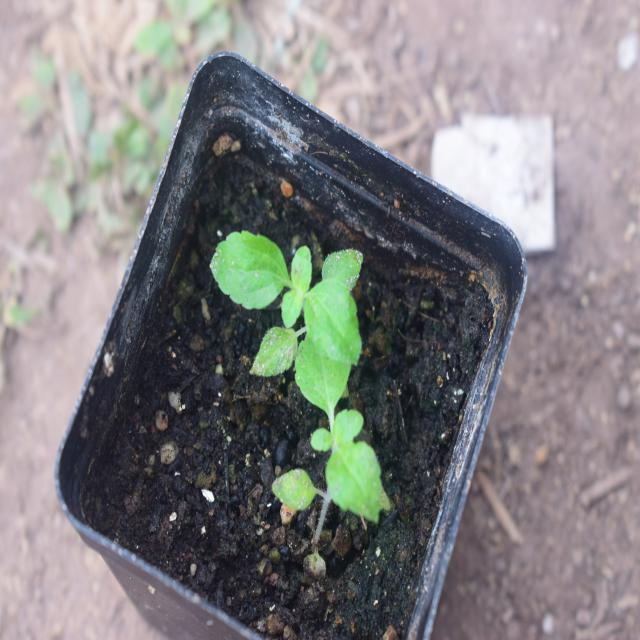billygoat_weed: (276, 330, 410, 521), (204, 206, 364, 357)
